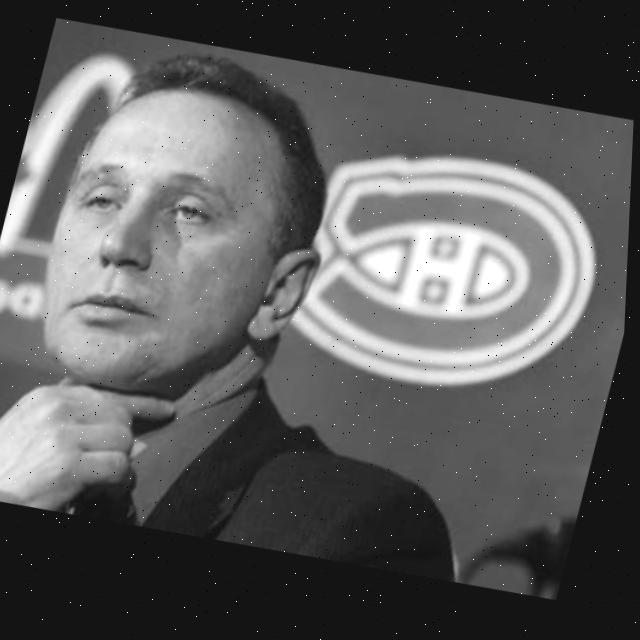face: (19, 63, 321, 409)
